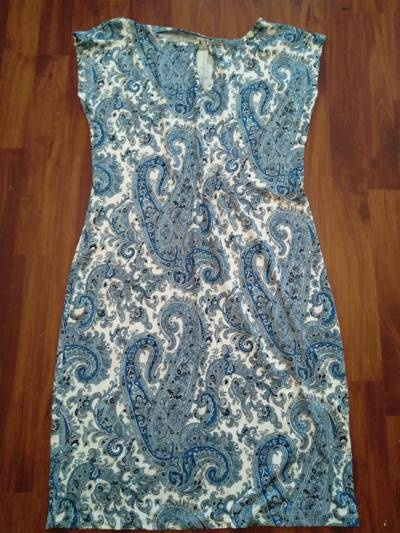Dress: (46, 17, 374, 532)
